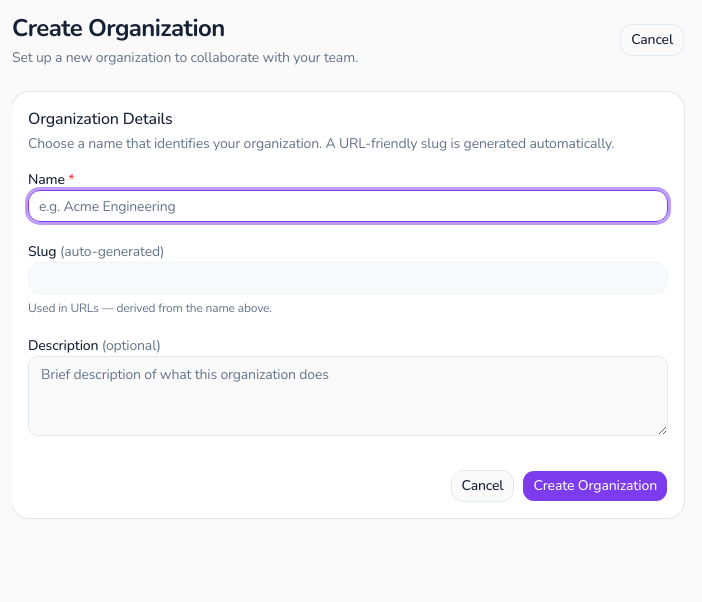
NewOrgClient › shows a generic error message when a non-ApiError is thrown
Type "Test Org" into the field labelled "Name *" at (348, 206), box x1=28 y1=190 x2=668 y2=222
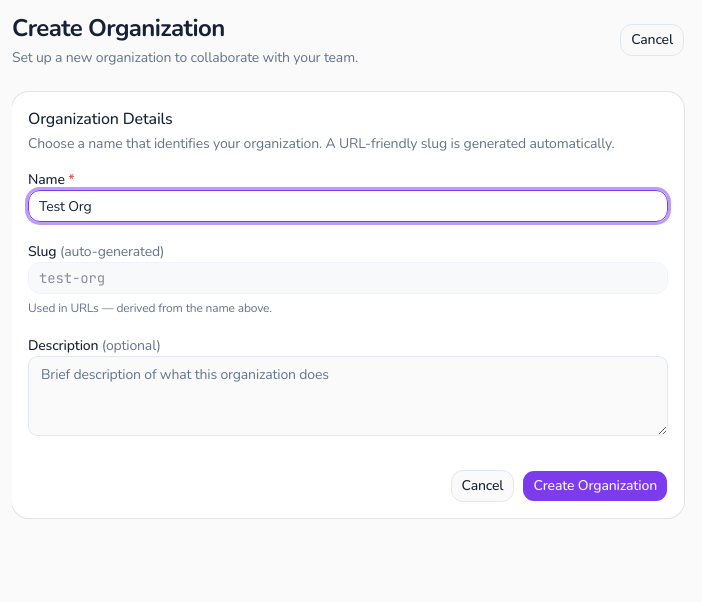
Click the button "Create Organization" at (595, 486), box x1=522 y1=470 x2=668 y2=502
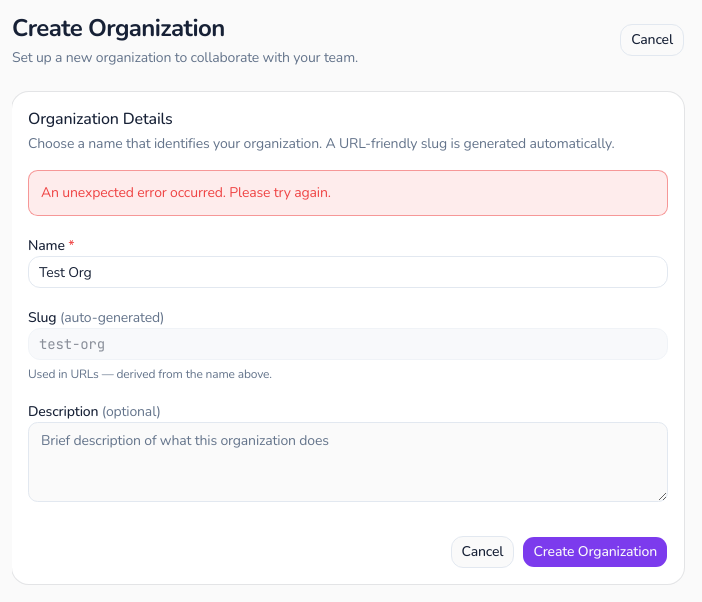
Expected: the text "An unexpected error occurred. Please try again." is shown, x1=28 y1=170 x2=668 y2=216
